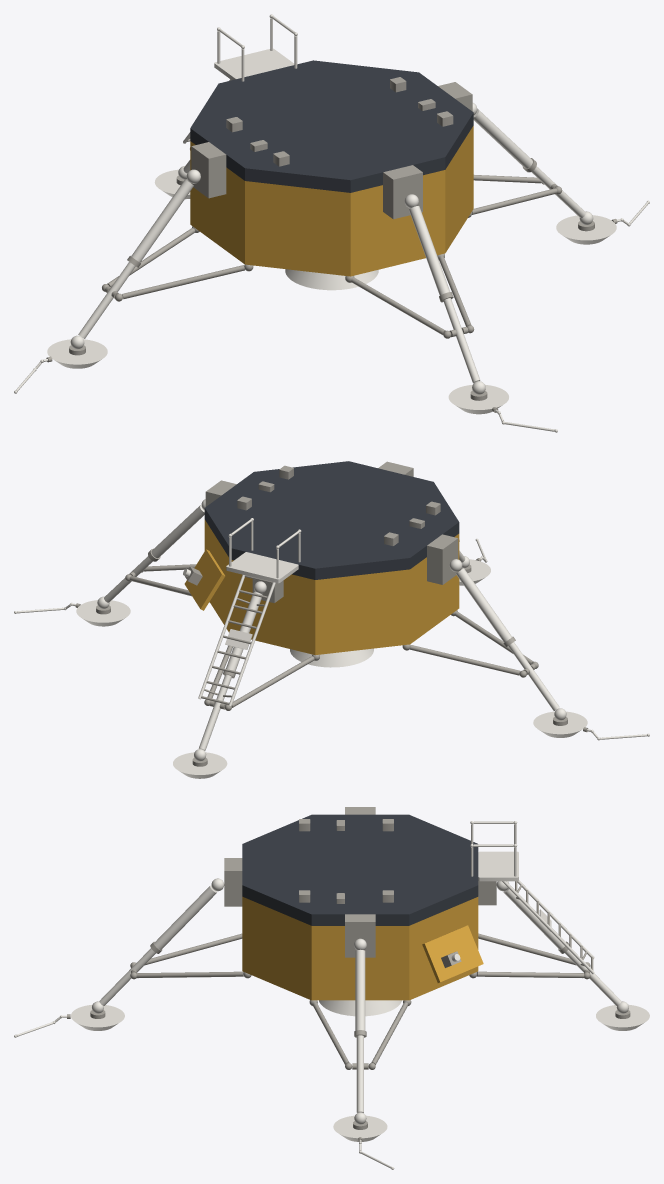
Rendered from 11-eagle.glb.
3 views of the same model, one above another, from view 1: azimuth 30°, elevation 25°; view 2: azimuth 150°, elevation 25°; view 3: azimuth 270°, elevation 25° (orthographic). The views are drawn at different scales.
Parts seen in each view (by area): view 1: descent, gear, ladder, dps; view 2: descent, gear, ladder, mesa, dps, probes; view 3: descent, gear, ladder, mesa, dps.
Part boxes in pixels (x1,y1,x2,y2): descent: (190, 60, 473, 276); gear: (47, 103, 616, 414); ladder: (183, 14, 297, 143); dps: (285, 269, 378, 290); descent: (204, 461, 459, 655); gear: (76, 499, 587, 778); ladder: (198, 518, 301, 706); mesa: (183, 549, 225, 610); dps: (290, 648, 373, 667); probes: (14, 538, 649, 740); descent: (224, 807, 496, 1000); gear: (71, 878, 649, 1141); ladder: (470, 821, 594, 974); mesa: (422, 925, 483, 982); dps: (319, 1000, 401, 1016).
Bounding box in the file's own units: 496 × 151 × 456.
